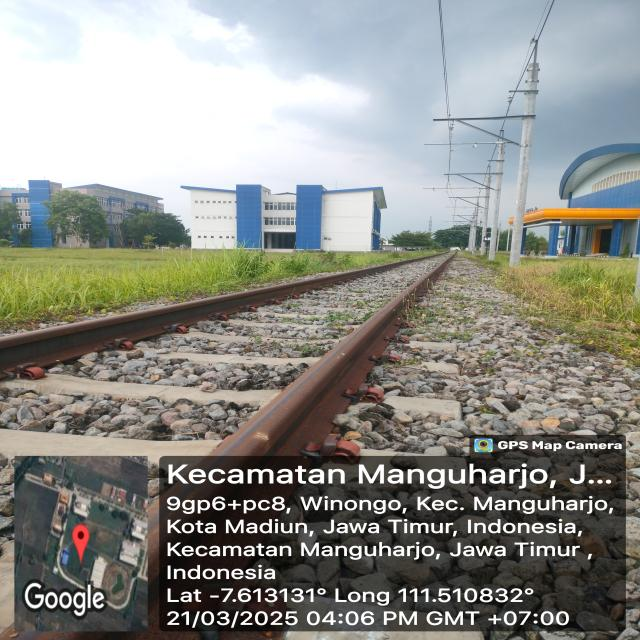rail-detection: (0, 255, 438, 377), (212, 254, 455, 456)
